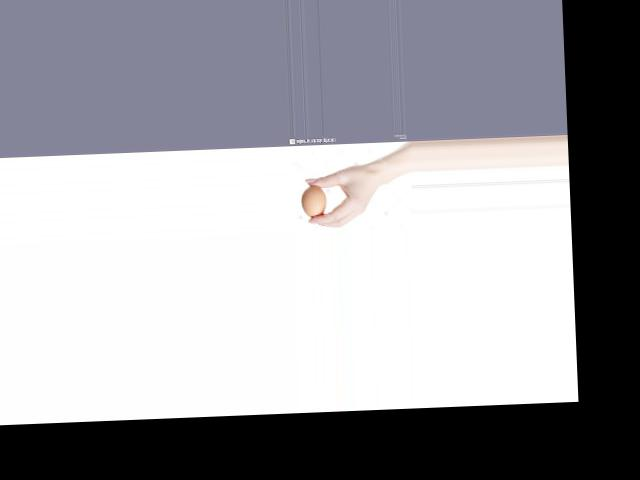egg: (300, 184, 328, 217)
